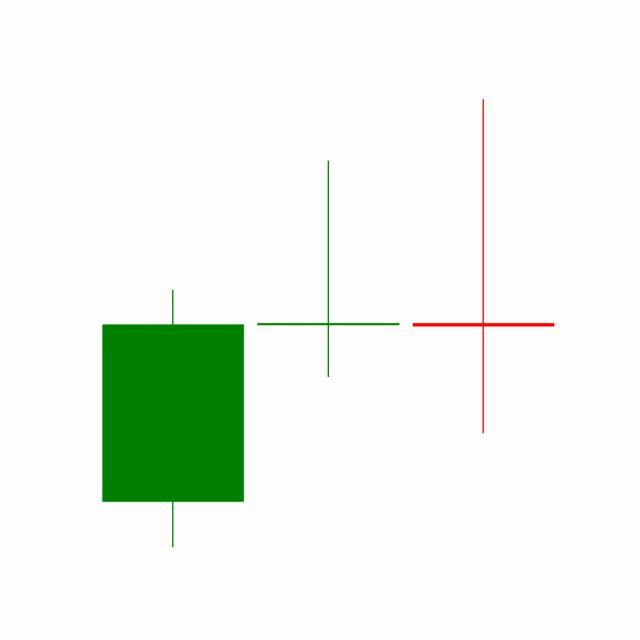Spinning Top: (406, 96, 562, 438)
